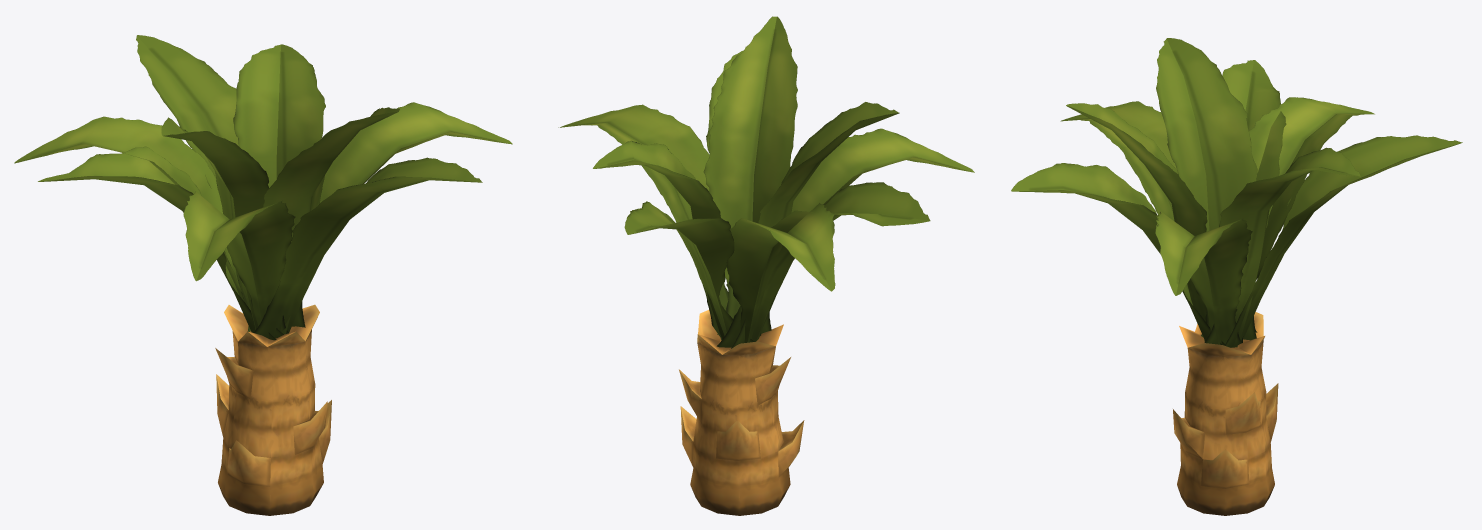
Rendered from LeafyPlant_01.fbx.
3 views of the same model, side by side, from view 1: azimuth 30°, elevation 25°; view 2: azimuth 150°, elevation 25°; view 3: azimuth 270°, elevation 25° (orthographic). The views are drawn at different scales.
Visible parts, largest first — view 1: Plane.001, Cylinder; view 2: Plane.001, Cylinder; view 3: Plane.001, Cylinder.
Boxes of the visible parts, box(x1,y1,x2,y2) form: Plane.001: box(14, 35, 512, 340); Cylinder: box(215, 304, 331, 515); Plane.001: box(558, 16, 974, 348); Cylinder: box(679, 310, 804, 515); Plane.001: box(1011, 38, 1462, 347); Cylinder: box(1173, 312, 1278, 515).
Size of the model in its own units: 445 by 434 by 432.
